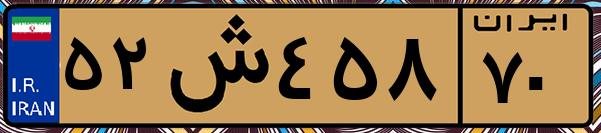0: (525, 38, 570, 115)
2: (110, 28, 158, 98)
4: (270, 28, 330, 110)
5: (330, 28, 385, 110), (57, 26, 110, 100)
7: (475, 38, 525, 113)
8: (385, 28, 445, 110)
ش: (158, 12, 270, 120)
